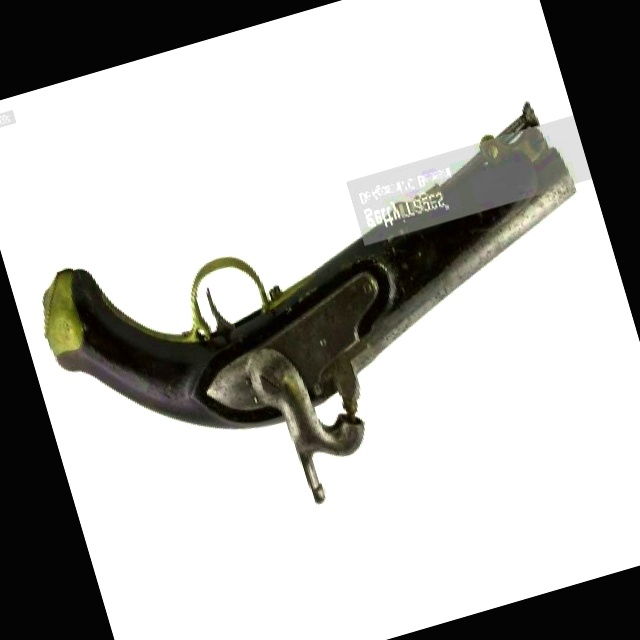gun: (9, 71, 640, 573)
